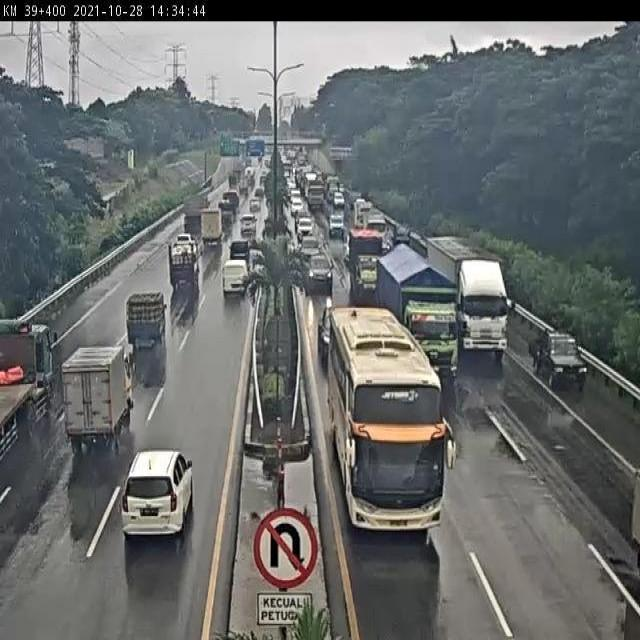big bus: (335, 312, 452, 553)
big truck: (441, 236, 527, 357), (0, 317, 61, 473), (393, 254, 469, 362)
car: (116, 442, 206, 550), (531, 317, 596, 408), (122, 283, 174, 367), (219, 255, 257, 305), (308, 245, 339, 299), (318, 303, 340, 364)
small truck: (60, 336, 138, 449), (352, 229, 390, 307), (169, 237, 205, 304)
